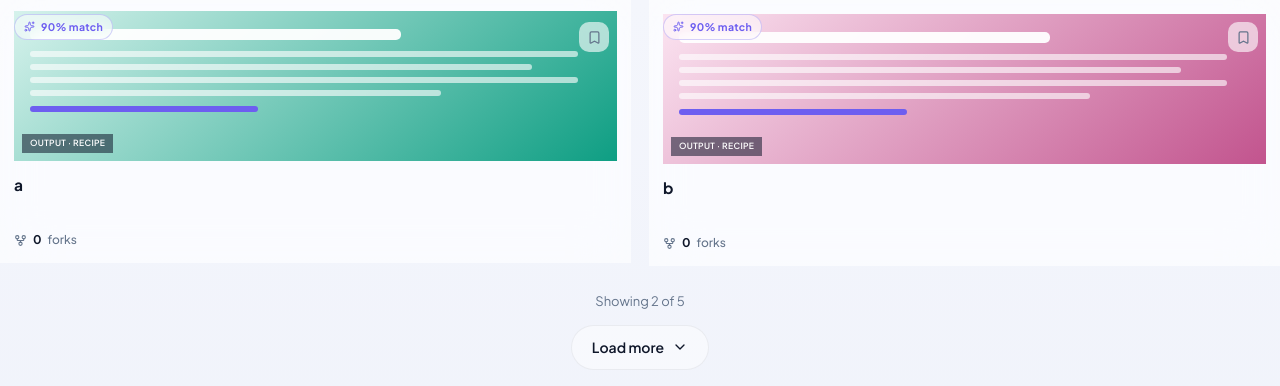
Scenario: SearchResults load-more guard › stops cleanly without mixing rows when a load-more page comes back degraded
Click the button "Load more" at {"x": 640, "y": 347}, box [571,325,709,370]
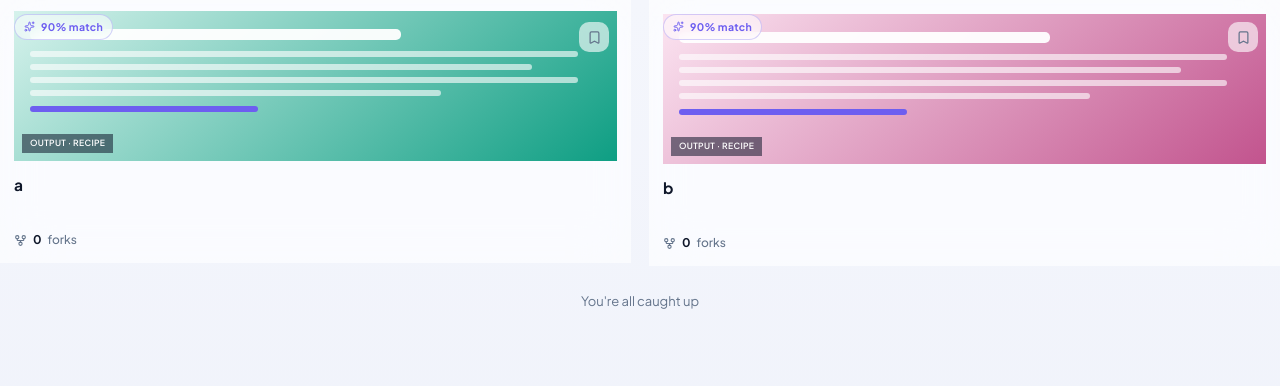
Expected: the text "You're all caught up" is shown, [581,292,699,312]
Expected: the button "Load more" is gone
